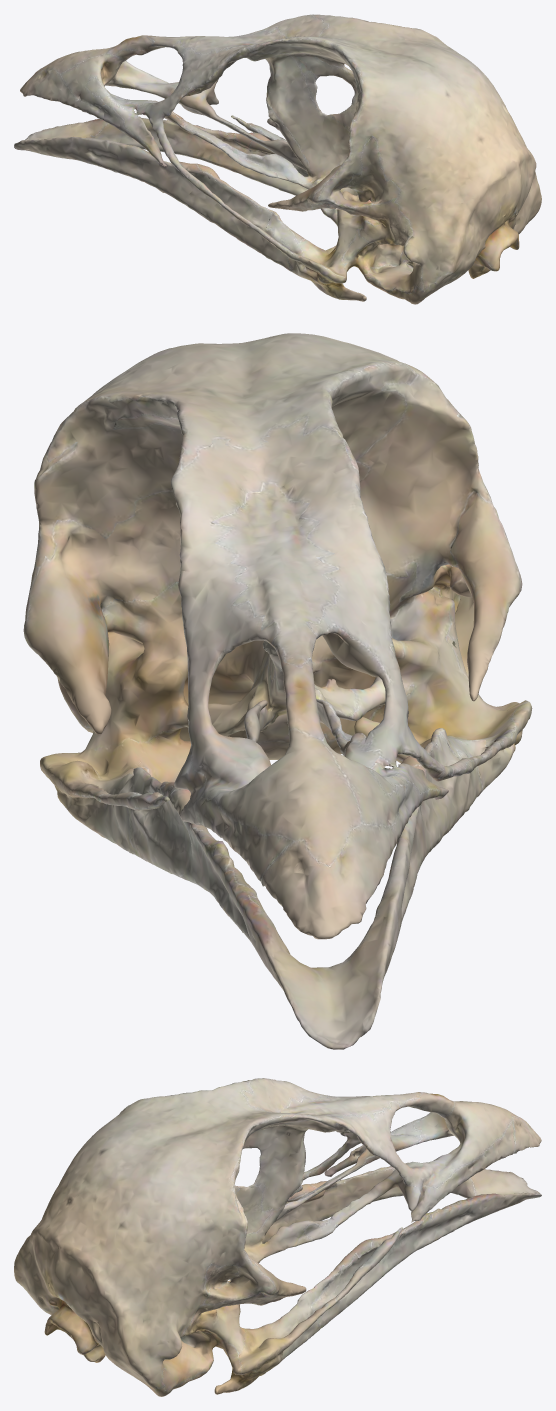
File: faisan.glb
3 renders of one model, top to bottom at view 1: azimuth 30°, elevation 25°; view 2: azimuth 150°, elevation 25°; view 3: azimuth 270°, elevation 25°, orthographic. The views are drawn at different scales.
Visible parts, largest first — view 1: Object_2; view 2: Object_2; view 3: Object_2.
Part boxes in pixels (box(x1,y1,x2,y2)): Object_2: box(14, 14, 541, 304); Object_2: box(23, 333, 532, 1049); Object_2: box(14, 1078, 541, 1396).
Size of the model in its own units: 1.03 by 0.6801 by 1.31.
Materials: 1 (1 with a texture image).
